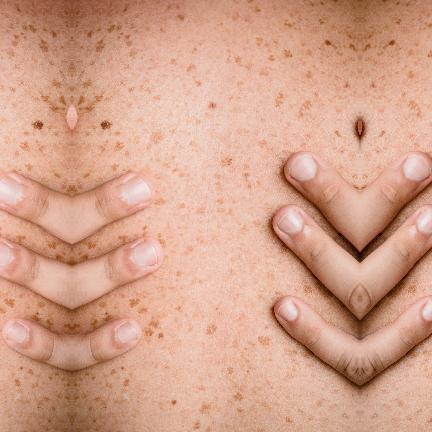Nail: (288, 154, 317, 181), (403, 154, 432, 181), (277, 209, 303, 235), (125, 177, 150, 204), (133, 241, 157, 267), (0, 177, 19, 204), (277, 300, 298, 322), (116, 323, 137, 344), (7, 323, 28, 344), (417, 209, 432, 235), (0, 242, 11, 267), (422, 300, 432, 322)
